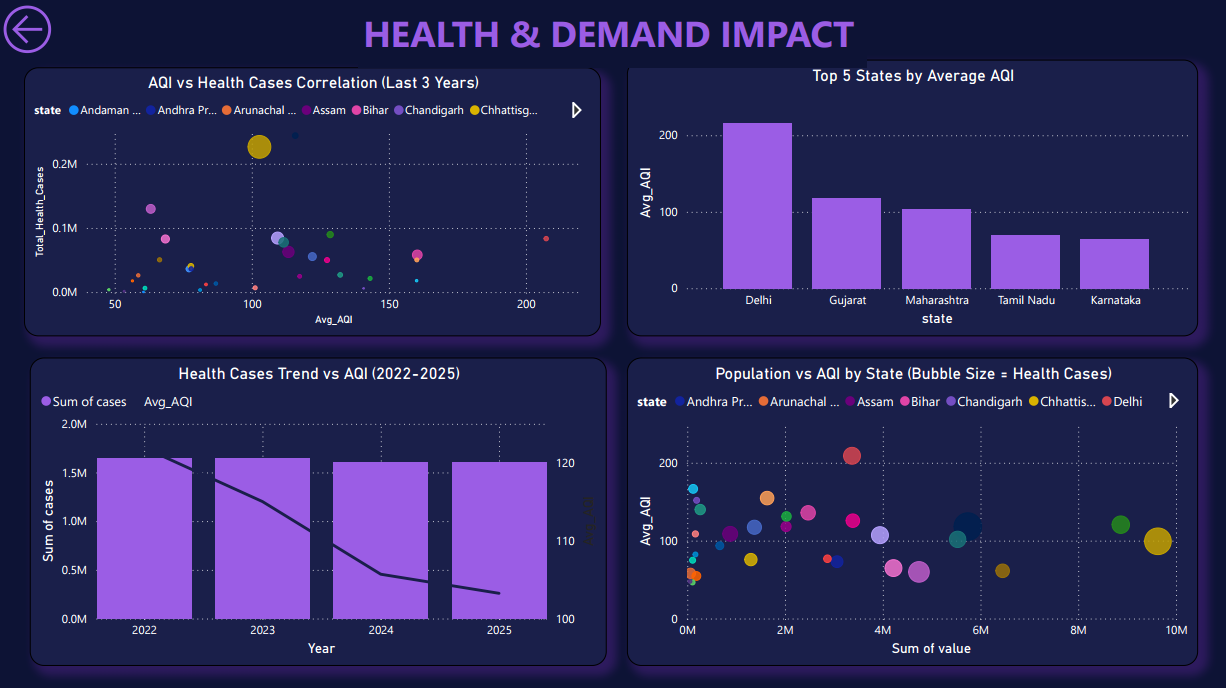

The page's visual inventory and layout, read from the dashboard file:
{"tool":"powerbi","page":{"name":"HEALTH & DEMAND IMPACT","canvas":[1280,720],"ordinal":3},"visuals":[{"type":"scatterChart","title":"AQI vs Health Cases Correlation (Last 3 Years)","fields":{"X":["AQI_data.Avg_AQI"],"Y":["AQI_data.Total_Health_Cases"],"Size":["Sum(health_data.deaths)"],"Series":["dim_state.state"]},"box":[28.2,71.2,600,279.8],"z":0},{"type":"scatterChart","title":"Population vs AQI by State (Bubble Size = Health Cases)","fields":{"X":["Sum(population_data.value)"],"Y":["AQI_data.Avg_AQI"],"Size":["Sum(health_data.cases)"],"Series":["dim_state.state"]},"box":[655.2,373,593.9,321.5],"z":1000},{"type":"clusteredColumnChart","title":"Top 5 States by Average AQI","fields":{"Category":["dim_state.state"],"Y":["AQI_data.Avg_AQI"]},"box":[655.2,62.6,593.9,288.3],"z":2000},{"type":"lineClusteredColumnComboChart","title":"Health Cases Trend vs AQI (2022-2025)","fields":{"Category":["dim_date.Year"],"Y":["Sum(health_data.cases)"],"Y2":["AQI_data.Avg_AQI"]},"box":[34.4,373,600,321.5],"z":3000},{"type":"textbox","box":[376.2,5,528.8,66.2],"z":4000},{"type":"actionButton","box":[0,0,67.5,62.5],"z":5000}]}

Visuals, with their boxes in screenshot pixels (x1, y1, x2, y2), scaled from the page's 1280x720 canvas onto the 1226x688 screenshot:
"AQI vs Health Cases Correlation (Last 3 Years)" scatterChart: rect(27, 68, 602, 335)
"Population vs AQI by State (Bubble Size = Health Cases)" scatterChart: rect(628, 356, 1196, 664)
"Top 5 States by Average AQI" clusteredColumnChart: rect(628, 60, 1196, 335)
"Health Cases Trend vs AQI (2022-2025)" lineClusteredColumnComboChart: rect(33, 356, 608, 664)
textbox: rect(360, 5, 867, 68)
actionButton: rect(0, 0, 65, 60)
